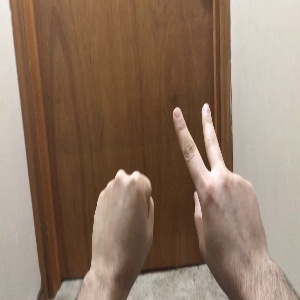hand: (172, 104, 267, 259), (91, 169, 154, 276)
